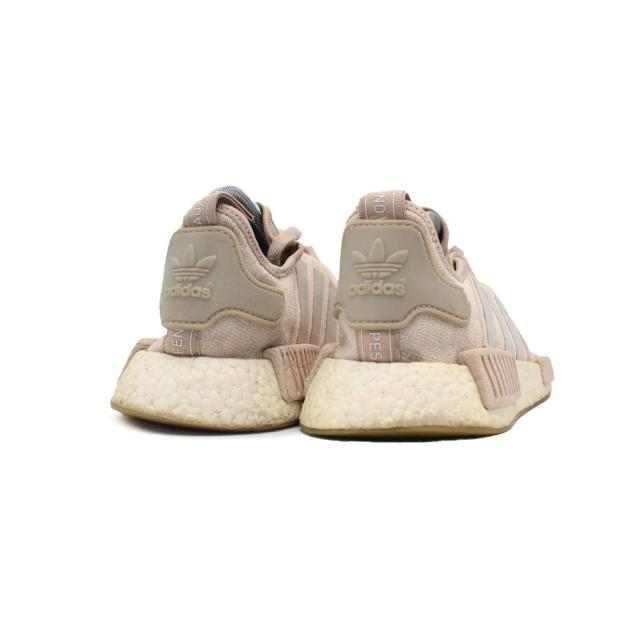heel: (331, 192, 483, 363), (151, 196, 299, 360)
midsole: (297, 347, 556, 436), (114, 337, 304, 431)
